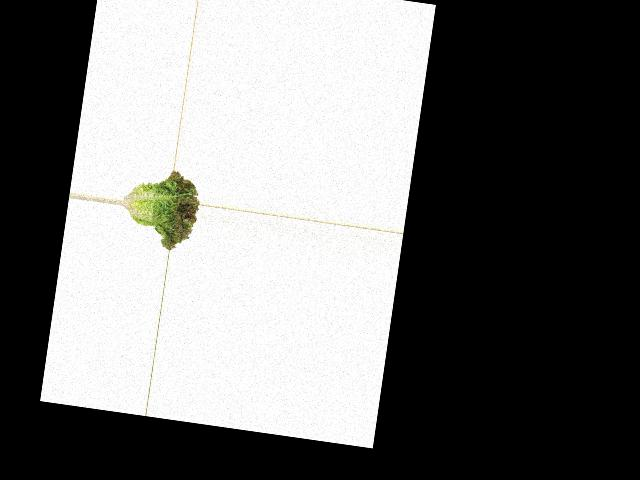lettuce: (116, 164, 202, 253)
